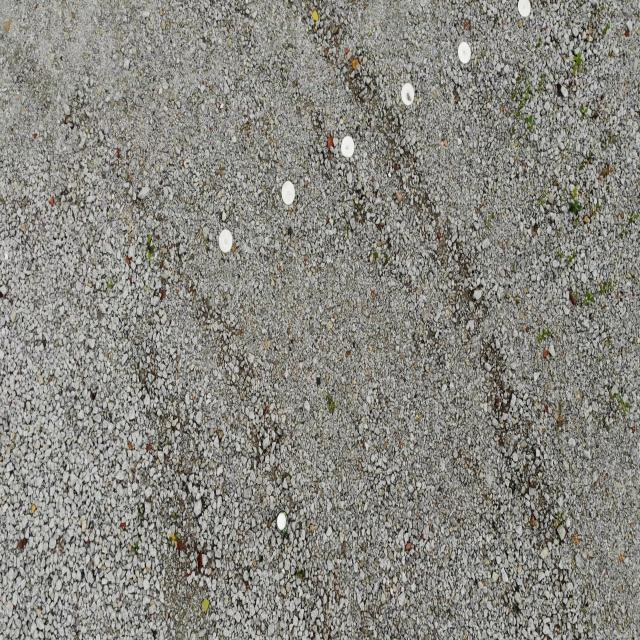rubbish: (277, 510, 286, 532)
